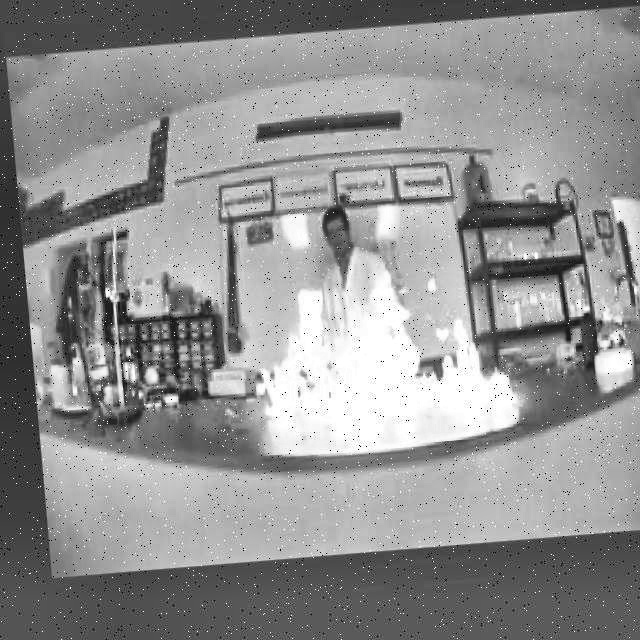Fire: (241, 300, 518, 433)
